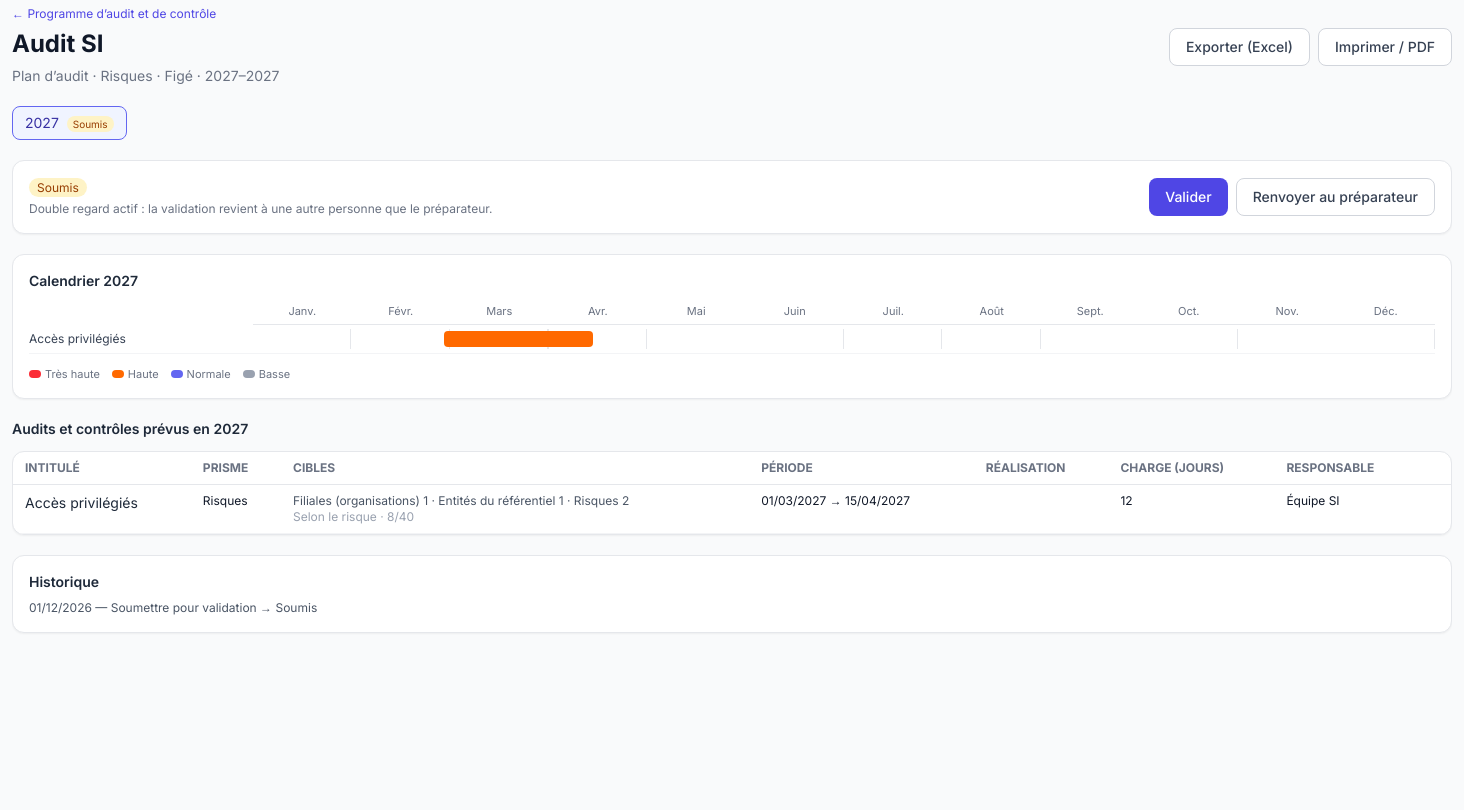
Test case: PlanView › validateur sur un plan soumis : valider ou renvoyer ; refus du serveur affiché
Click the button "Valider". click: (1188, 197)
box: [1149, 178, 1228, 216]
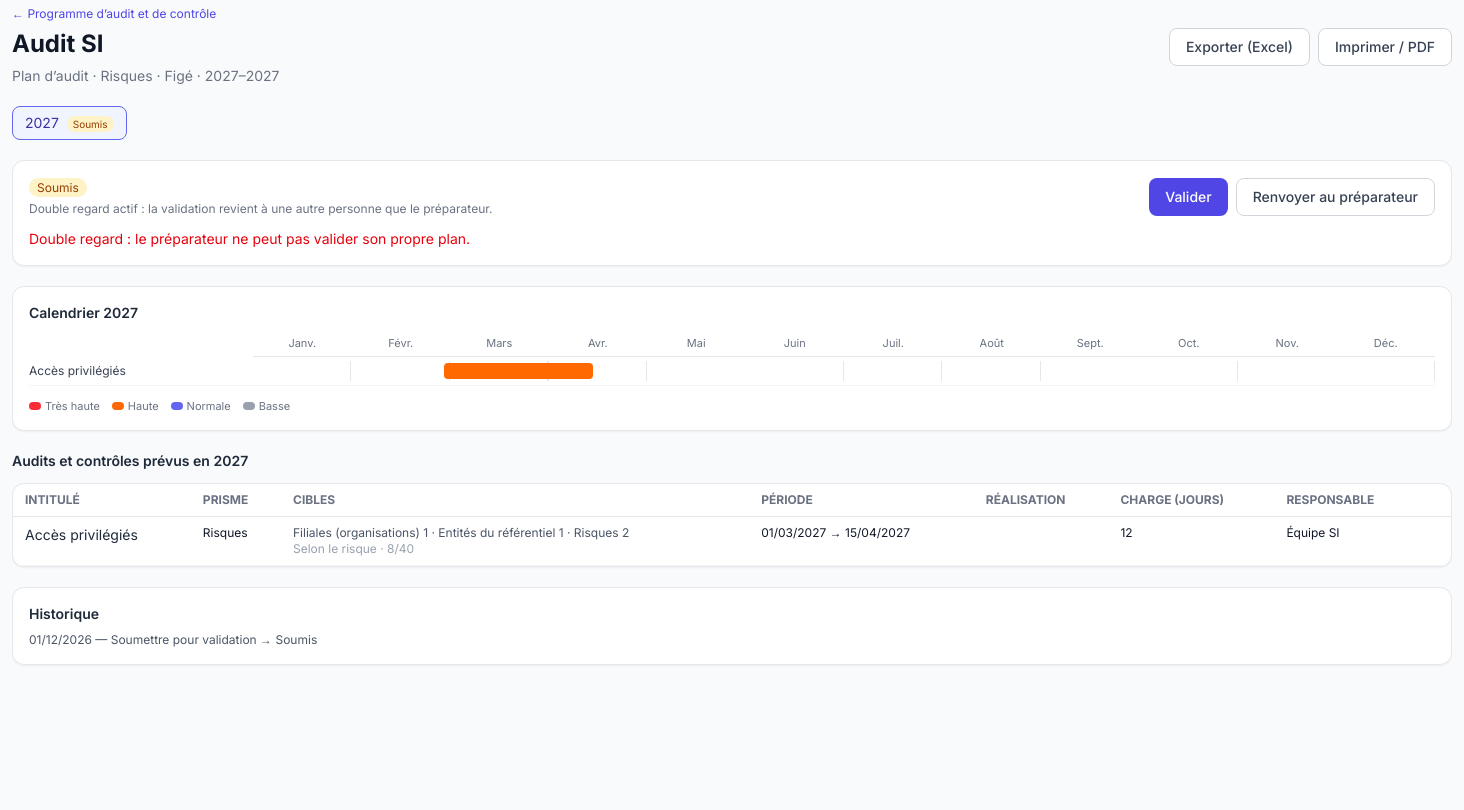
Expected: the button "Renvoyer au préparateur" is shown, [1236, 178, 1435, 216]
Expected: the message shows "Double regard", [29, 230, 470, 247]
